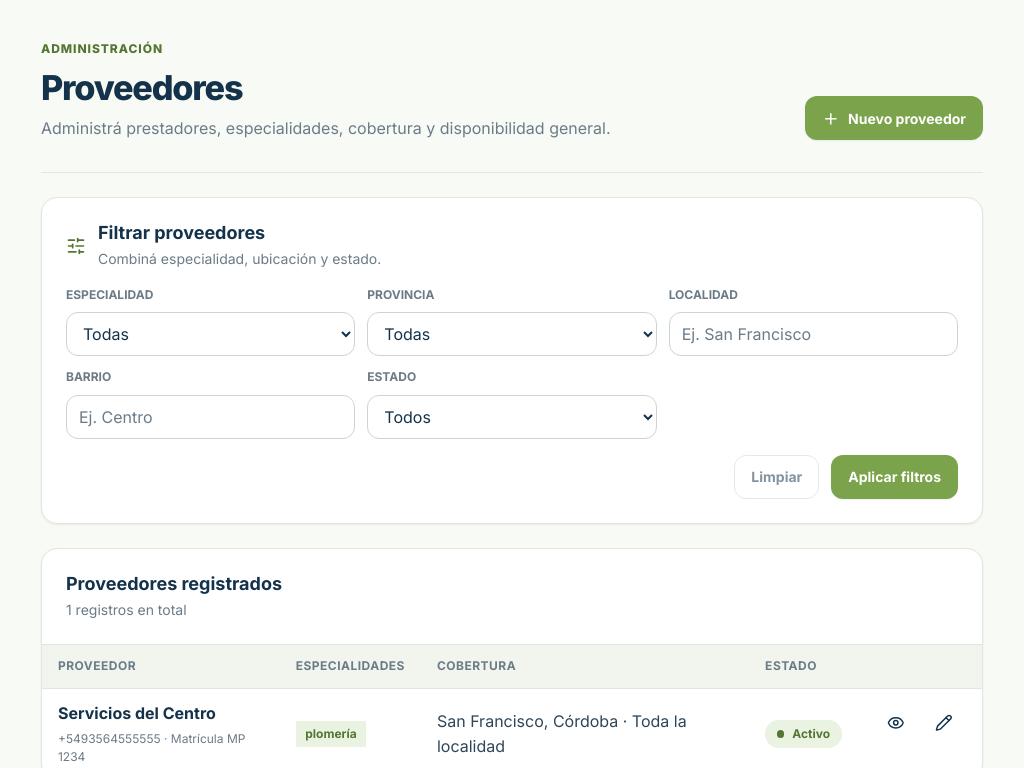
listado de proveedores › oculta los resultados anteriores si la nueva búsqueda falla
This screenshot has width=1024, height=768.
Expected: the link "Servicios del Centro" is shown, [58,703,216,723]
Select "Córdoba" in the dropdown labelled "Provincia": (512, 334) [367,312,657,356]
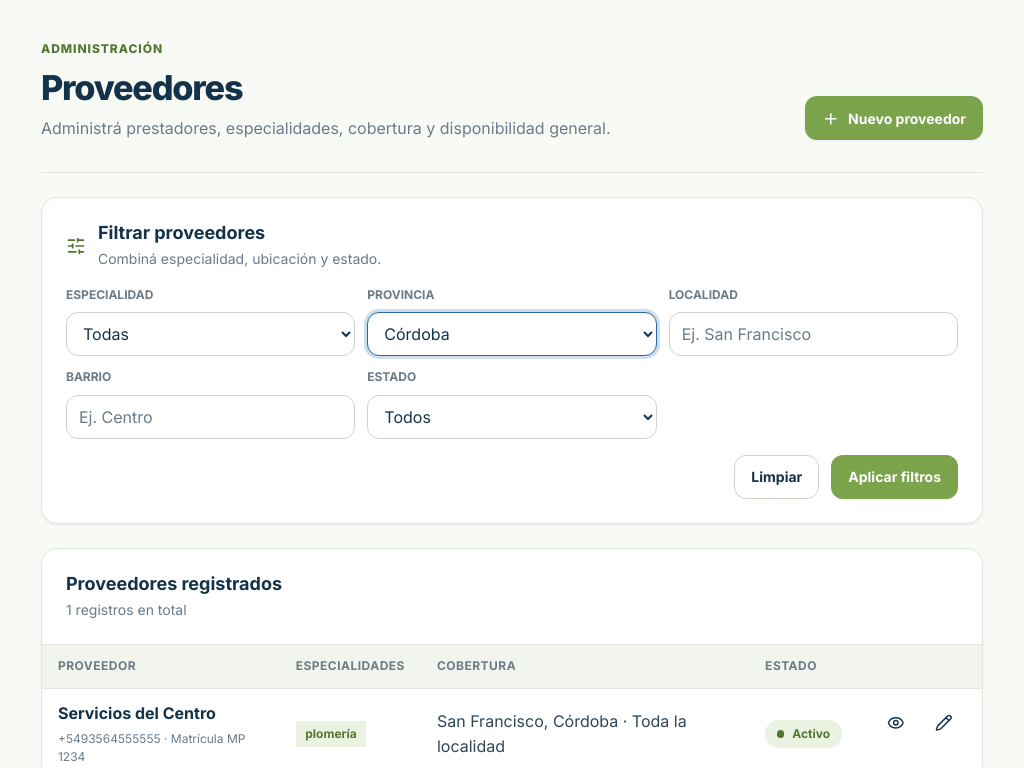
In the field labelled "Localidad": (813, 334) [669,312,958,356], type "San Francisco"
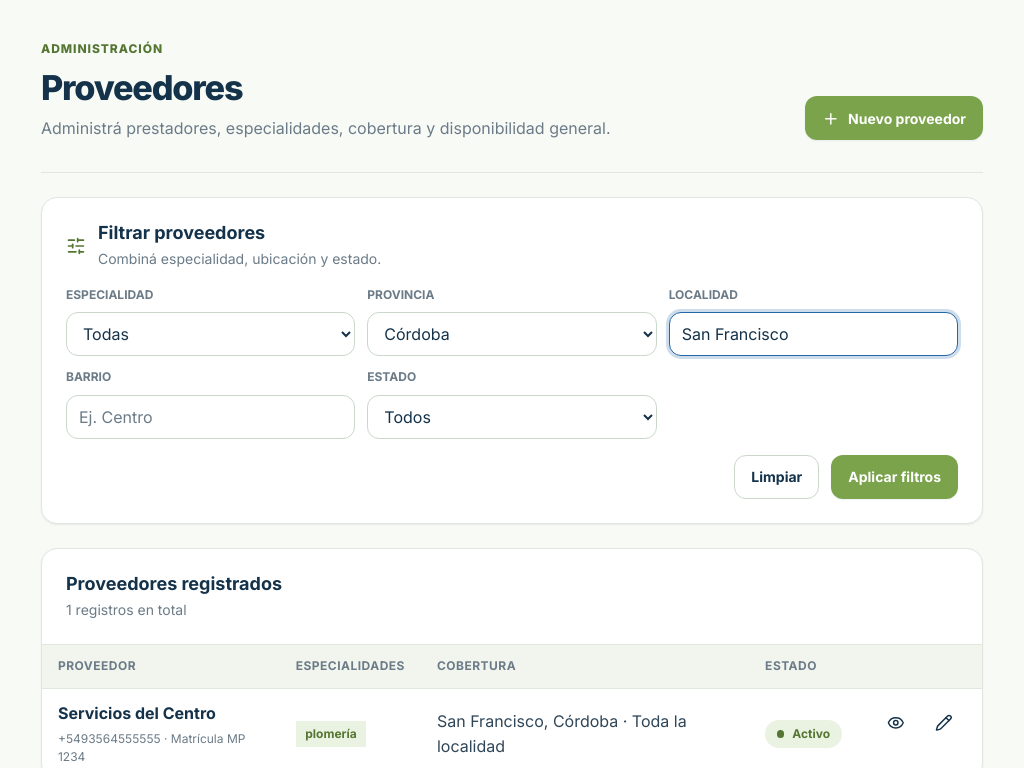
Click the button "Aplicar filtros": (895, 477) [831,455,958,499]
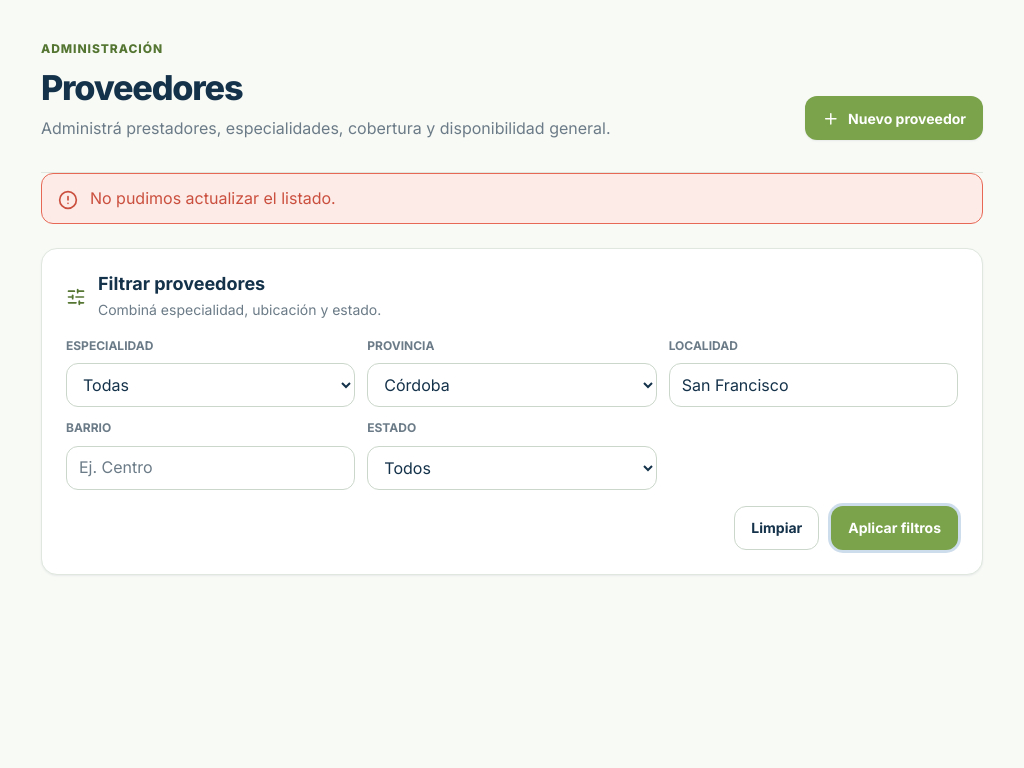
Now the text "No pudimos actualizar el listado." is shown, box [90,186,336,211]
Now the link "Servicios del Centro" is gone
